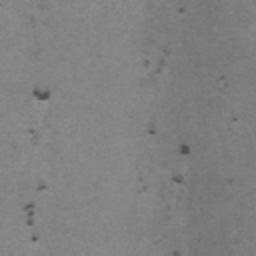Oxide scale of temperature system: (141, 127, 191, 192), (22, 180, 47, 244), (142, 45, 170, 74), (32, 87, 52, 102), (216, 73, 230, 88), (175, 5, 187, 15), (225, 177, 236, 186), (28, 127, 37, 136), (172, 250, 184, 256), (232, 115, 238, 123)
